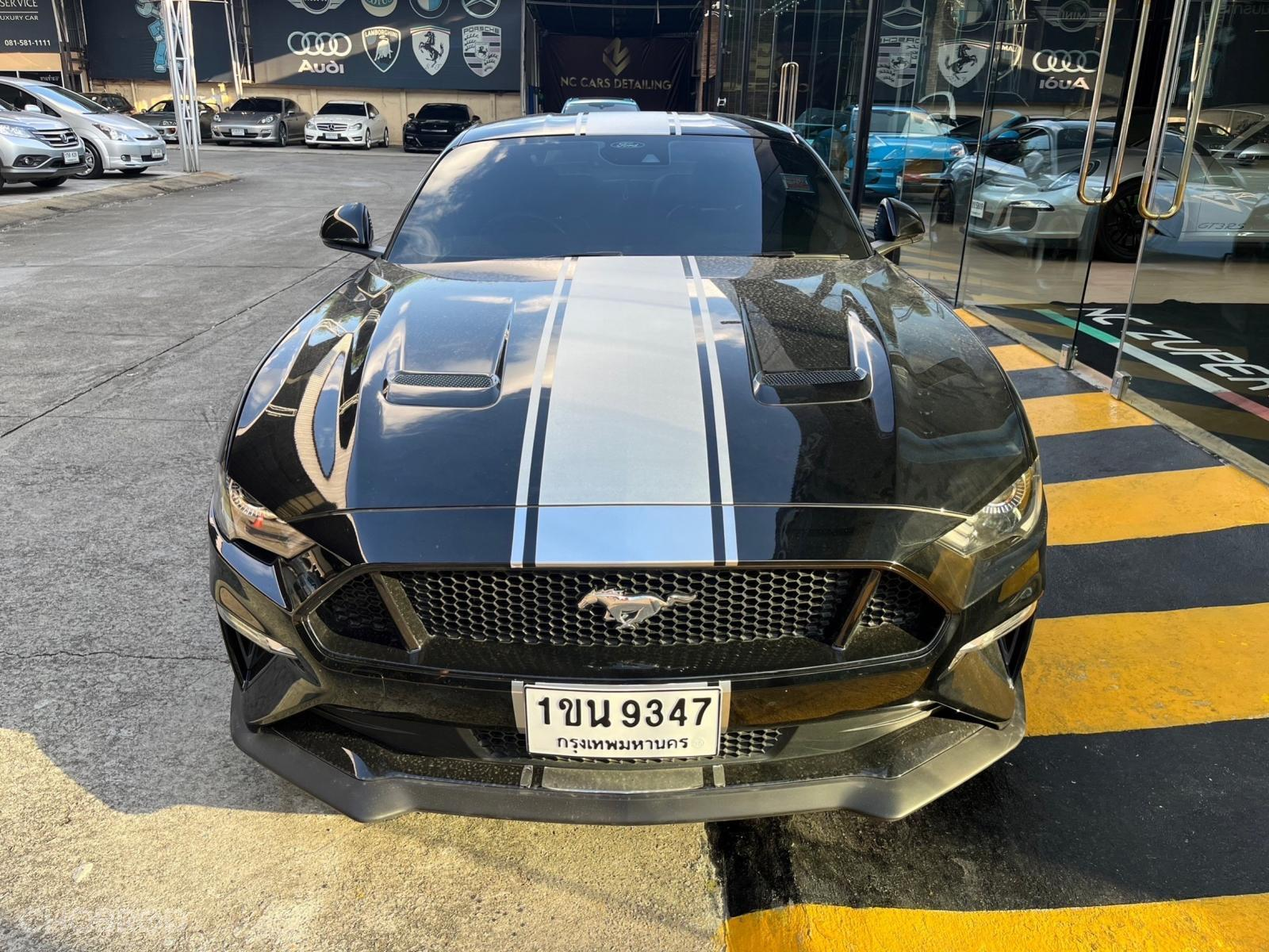license-plate: (519, 679, 724, 764), (63, 149, 84, 165), (147, 146, 164, 158)
